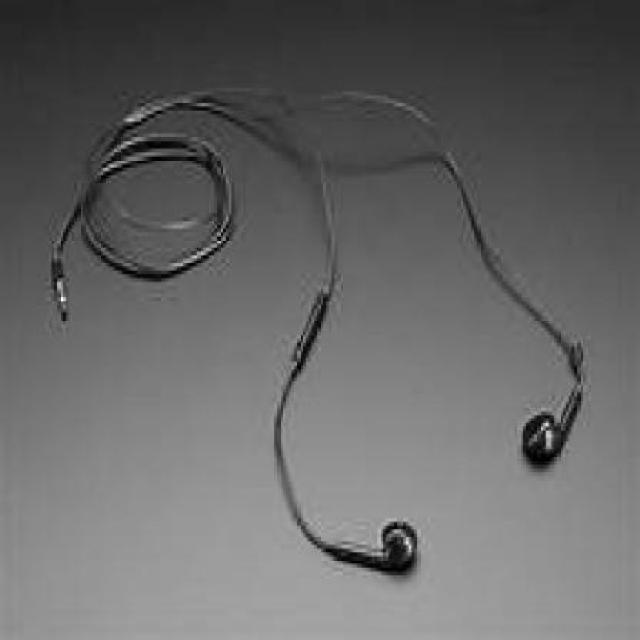earphone: (55, 58, 634, 592)
